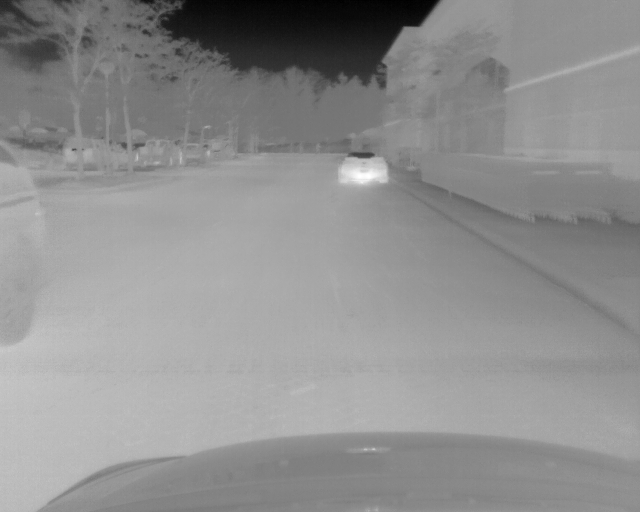car: (1, 136, 45, 343), (61, 135, 118, 171), (336, 151, 390, 187), (132, 138, 182, 170), (181, 141, 203, 166)
